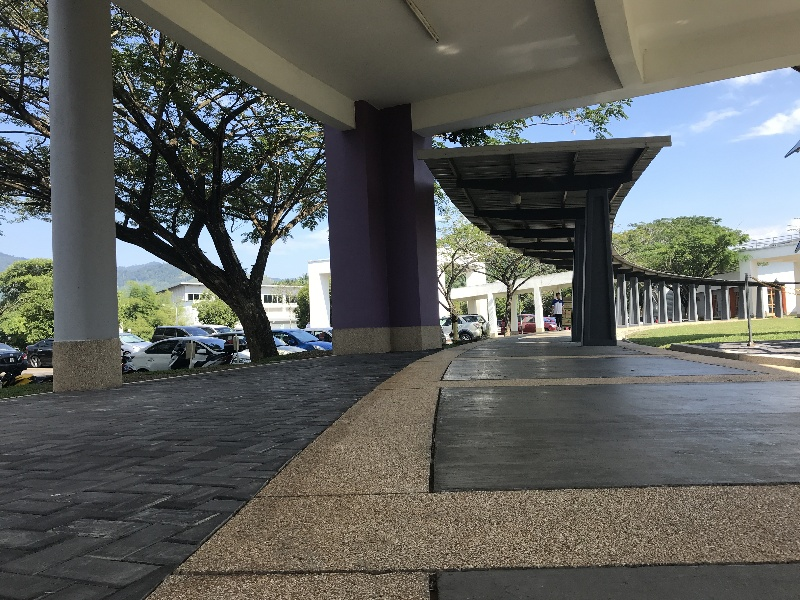pillar: (30, 3, 140, 401), (308, 85, 456, 359), (574, 184, 624, 352)
